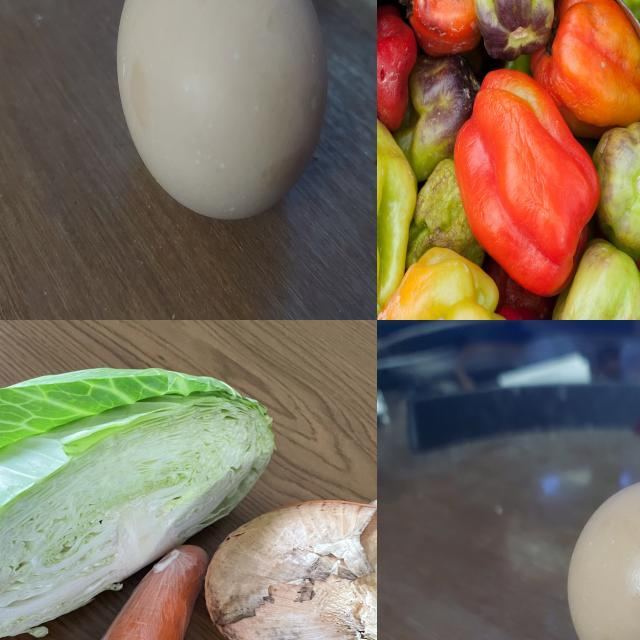bell_pepper: (447, 58, 599, 286), (553, 1, 640, 134), (378, 240, 508, 321), (547, 237, 640, 321), (378, 113, 411, 308), (596, 111, 640, 250), (473, 1, 570, 54), (406, 1, 500, 54), (378, 1, 418, 121)
cabbage: (1, 367, 279, 640)
carrot: (16, 544, 208, 640)
egg: (115, 1, 333, 223), (566, 475, 640, 640)
onion: (199, 498, 378, 640)
